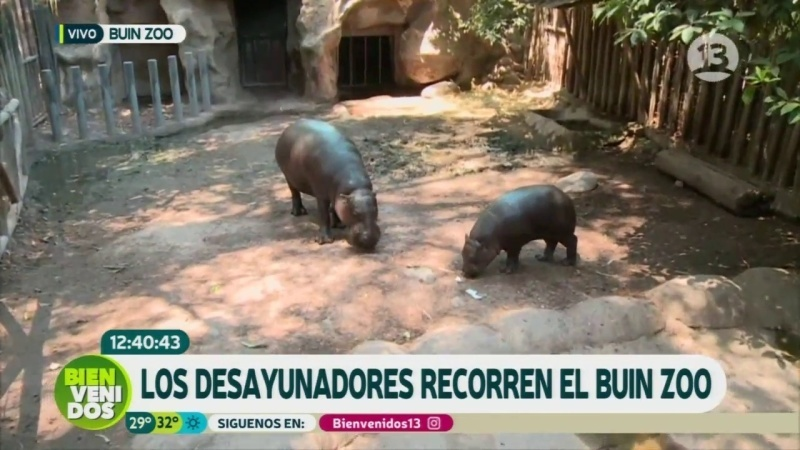hipopotamo: (257, 109, 400, 272), (442, 174, 594, 302)
